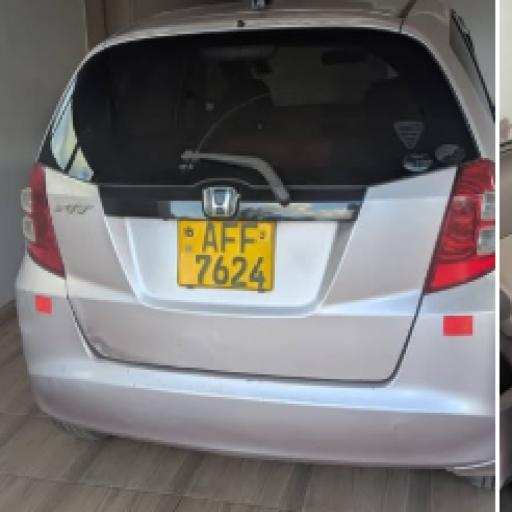number-plates: (176, 219, 270, 291)
